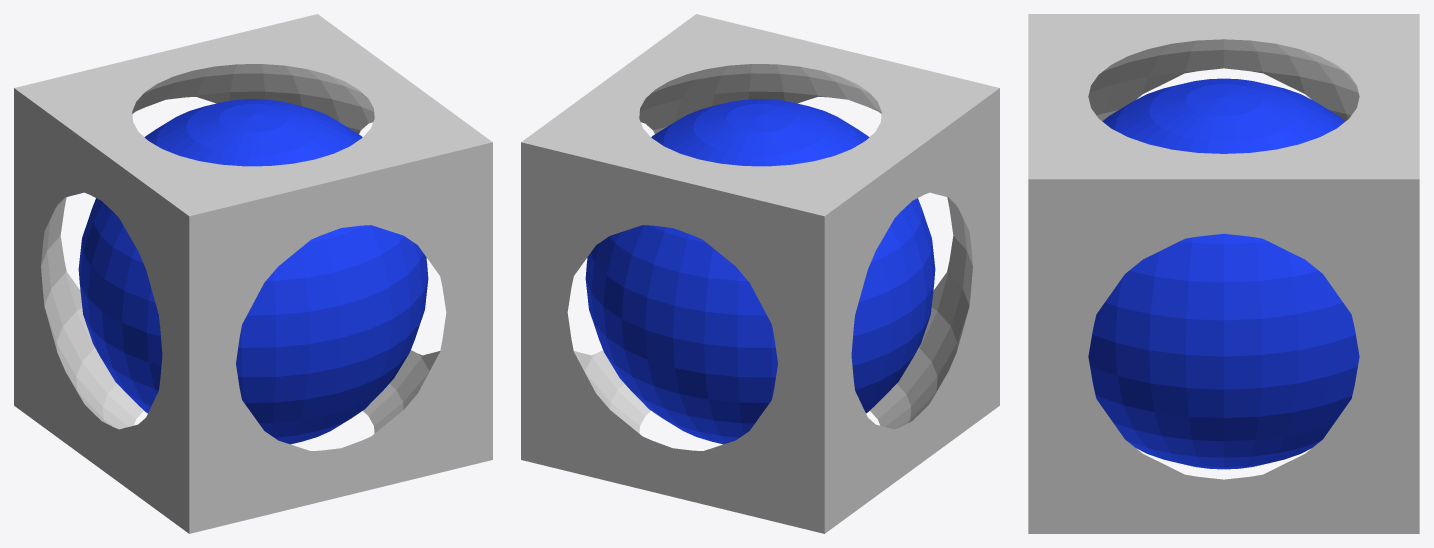
The model's file is refractionCube.fbx.
3 views of the same model, side by side, from view 1: azimuth 30°, elevation 25°; view 2: azimuth 150°, elevation 25°; view 3: azimuth 270°, elevation 25° (orthographic). The views are drawn at different scales.
Parts seen in each view (by area): view 1: Cube, Sphere; view 2: Cube, Sphere; view 3: Cube, Sphere.
Part boxes in pixels (x1=…): Cube: x1=14, y1=14, x2=492, y2=533; Sphere: x1=78, y1=99, x2=428, y2=444; Cube: x1=521, y1=14, x2=999, y2=533; Sphere: x1=585, y1=99, x2=935, y2=444; Cube: x1=1028, y1=14, x2=1419, y2=533; Sphere: x1=1088, y1=78, x2=1359, y2=469.
Size of the model in its own units: 50 by 50 by 50.
